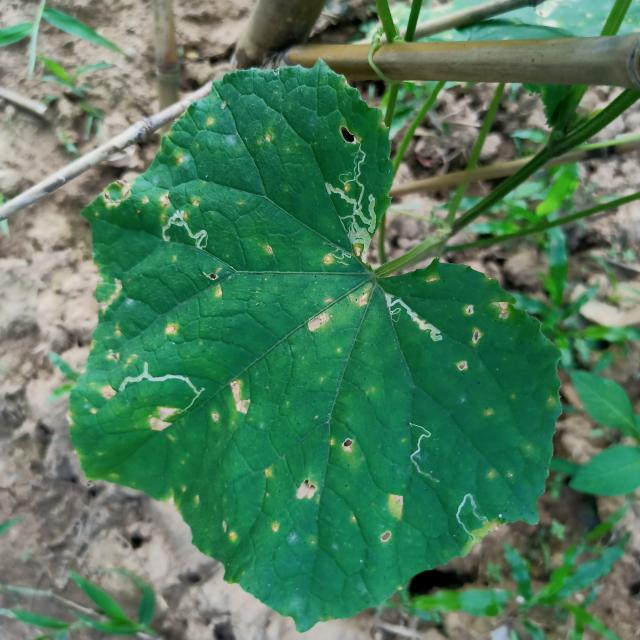disease_cucumber: (455, 300, 512, 372), (86, 321, 138, 374), (62, 380, 116, 426), (102, 178, 171, 212), (211, 380, 253, 428), (379, 493, 404, 544), (100, 276, 133, 314), (306, 298, 334, 335), (149, 405, 178, 433), (294, 477, 321, 507), (347, 282, 372, 310), (330, 435, 354, 457), (205, 268, 222, 299), (220, 518, 238, 543), (259, 130, 272, 146), (204, 116, 216, 131), (166, 322, 178, 336), (353, 246, 361, 260), (324, 256, 334, 266), (427, 275, 438, 284)
